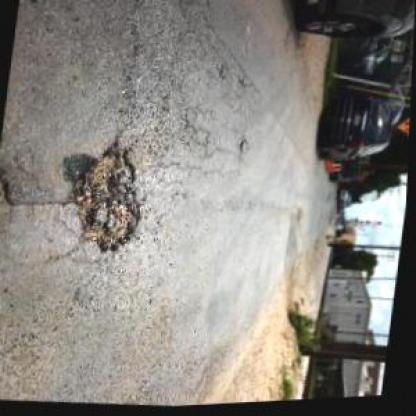pothole: (65, 140, 151, 258), (0, 166, 22, 208)
